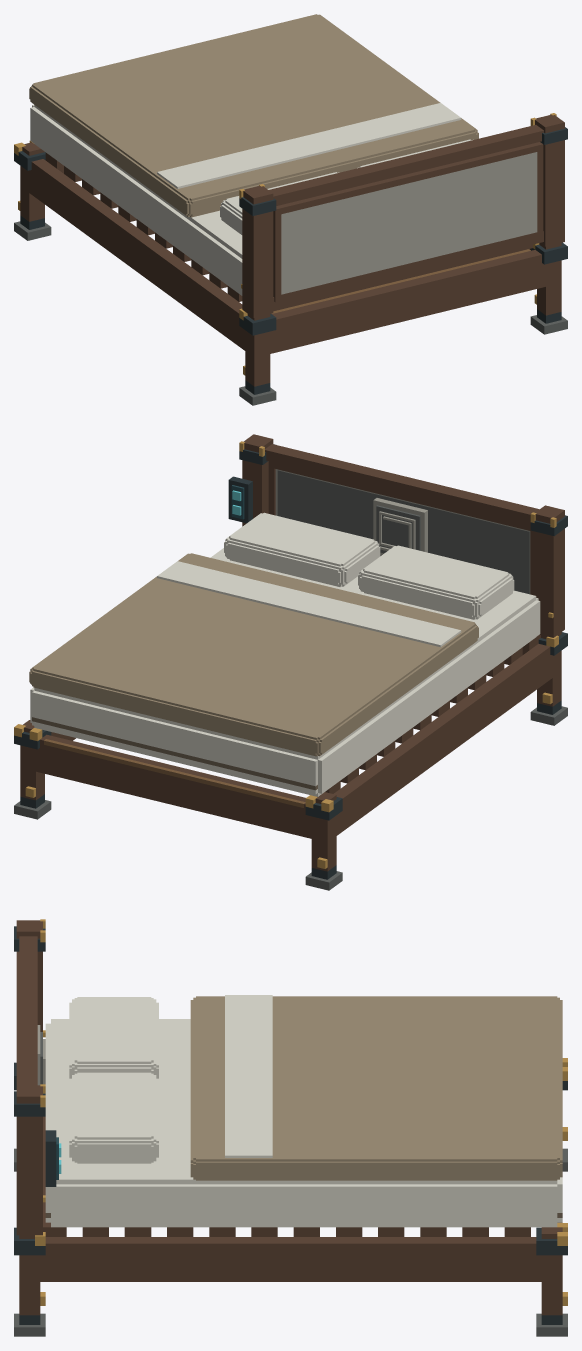
3 views of the same model, one above another, from view 1: azimuth 30°, elevation 25°; view 2: azimuth 150°, elevation 25°; view 3: azimuth 270°, elevation 25° (orthographic). The views are drawn at different scales.
Visible parts, largest first — view 1: 被褥及枕头组合, 床头靠板, 住宅床架, 床垫基础块; view 2: 被褥及枕头组合, 住宅床架, 床头靠板, 床垫基础块; view 3: 被褥及枕头组合, 床垫基础块, 住宅床架, 床头靠板.
Boxes of the visible parts, left/top/right/bottom form: 被褥及枕头组合: left=29, top=14, right=478, bottom=234; 床头靠板: left=239, top=113, right=567, bottom=317; 住宅床架: left=14, top=141, right=567, bottom=405; 床垫基础块: left=30, top=104, right=242, bottom=295; 被褥及枕头组合: left=29, top=512, right=514, bottom=756; 住宅床架: left=14, top=632, right=567, bottom=890; 床头靠板: left=228, top=434, right=567, bottom=637; 床垫基础块: left=30, top=548, right=540, bottom=796; 被褥及枕头组合: left=69, top=995, right=562, bottom=1180; 床垫基础块: left=45, top=1019, right=562, bottom=1227; 住宅床架: left=14, top=1058, right=567, bottom=1336; 床头靠板: left=14, top=919, right=61, bottom=1235.
Size of the model in its own units: 1.63 by 1 by 2.1.
11 materials, 11 textured.
